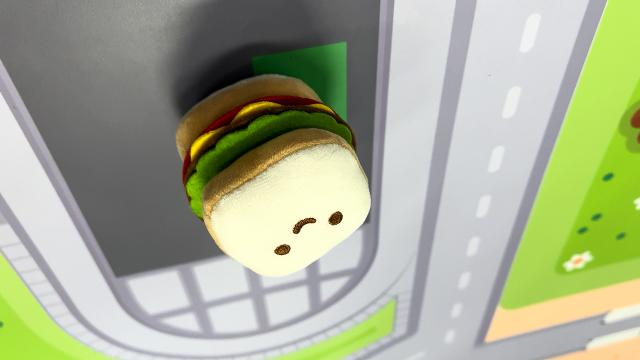sandwich: (172, 70, 374, 278)
